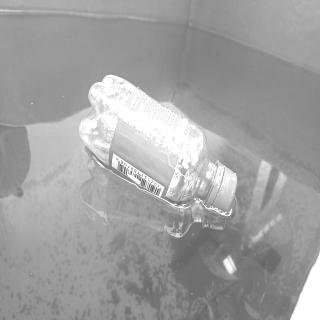bottle: (79, 74, 238, 214)
